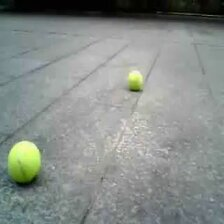tennis: (7, 141, 39, 180), (128, 70, 143, 89)
